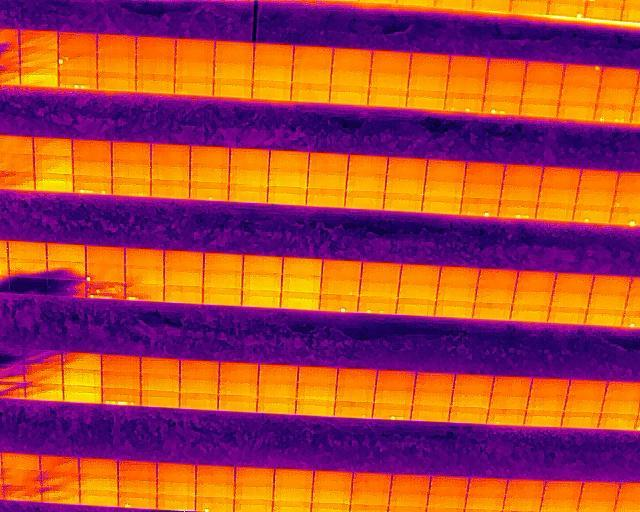Cell: (562, 66, 603, 86), (574, 206, 613, 227), (461, 198, 500, 217), (86, 265, 125, 284), (318, 294, 359, 312), (190, 182, 229, 200), (334, 401, 373, 418), (119, 493, 157, 510), (321, 278, 359, 295), (548, 0, 586, 16), (195, 497, 234, 512)
Cell-Multi: (595, 103, 636, 123), (58, 70, 97, 91), (125, 284, 165, 303), (482, 96, 522, 114), (444, 94, 484, 112), (500, 201, 538, 219), (85, 282, 125, 299), (359, 297, 398, 314), (58, 53, 97, 70), (73, 176, 111, 193), (102, 389, 141, 405)
No-Anomaly: (348, 154, 388, 176), (333, 49, 371, 72), (453, 373, 494, 394), (386, 157, 427, 178), (449, 56, 488, 78), (371, 53, 410, 75), (426, 160, 466, 181), (308, 153, 348, 174), (542, 481, 582, 502), (293, 49, 333, 70), (97, 34, 137, 55), (464, 162, 505, 182), (191, 145, 230, 166), (467, 478, 506, 499), (410, 55, 449, 76), (254, 44, 293, 65), (137, 37, 176, 58), (58, 32, 97, 53), (117, 460, 157, 480), (360, 262, 402, 281), (112, 142, 151, 162), (243, 254, 282, 274), (391, 476, 430, 496), (97, 72, 136, 92), (175, 39, 214, 59), (541, 170, 582, 189), (502, 167, 543, 186), (560, 85, 601, 104), (21, 67, 58, 88), (491, 376, 534, 394), (583, 481, 618, 503), (267, 186, 307, 205), (580, 171, 620, 190), (269, 151, 309, 170), (407, 91, 447, 110), (214, 78, 252, 98), (202, 288, 242, 307), (322, 260, 360, 280), (282, 258, 322, 277), (164, 251, 204, 270), (175, 76, 213, 96), (215, 42, 253, 62), (336, 369, 378, 387), (507, 480, 543, 501), (152, 145, 191, 164), (72, 141, 111, 160), (252, 81, 291, 100), (280, 292, 319, 311), (554, 273, 593, 292), (86, 245, 125, 264), (524, 64, 563, 83), (379, 370, 416, 390), (430, 477, 467, 497), (586, 0, 623, 20), (530, 377, 571, 395), (414, 373, 455, 391), (229, 149, 270, 167), (596, 85, 637, 103), (203, 253, 244, 271), (347, 189, 385, 208), (516, 272, 554, 291), (488, 61, 526, 80), (422, 196, 462, 214), (538, 188, 578, 206), (229, 168, 269, 186), (477, 270, 517, 288), (125, 249, 165, 267), (352, 473, 392, 491), (297, 367, 339, 384), (20, 48, 57, 67), (141, 373, 180, 391), (79, 489, 118, 507), (384, 193, 423, 211), (34, 138, 73, 156), (434, 300, 473, 318), (282, 275, 321, 293), (601, 69, 640, 87), (217, 364, 258, 381), (306, 189, 347, 206), (500, 184, 541, 201), (367, 90, 408, 107), (290, 85, 331, 102), (602, 396, 640, 414), (35, 174, 73, 192), (35, 155, 73, 173), (513, 303, 549, 322), (242, 290, 280, 308), (592, 277, 630, 295), (440, 269, 478, 287), (137, 74, 175, 92), (214, 60, 252, 78), (228, 185, 268, 202), (151, 180, 191, 197), (111, 178, 151, 195), (157, 464, 197, 481), (273, 485, 313, 502), (359, 281, 399, 298), (125, 267, 165, 284), (447, 78, 487, 95), (397, 299, 434, 317), (401, 264, 438, 282), (565, 395, 604, 412), (568, 378, 607, 395), (180, 362, 219, 379), (313, 471, 352, 488), (463, 181, 502, 198), (274, 469, 313, 486), (522, 100, 561, 117), (329, 87, 368, 104), (523, 83, 562, 100), (235, 483, 274, 500), (473, 302, 512, 319), (164, 286, 203, 303), (203, 271, 242, 288), (164, 270, 203, 287), (97, 55, 136, 72), (217, 395, 258, 411), (312, 488, 353, 504), (535, 204, 576, 220), (484, 80, 525, 96), (449, 407, 490, 423), (411, 405, 452, 421), (562, 410, 598, 428), (64, 368, 102, 385), (352, 489, 390, 506), (103, 355, 141, 372), (575, 190, 613, 207), (557, 103, 595, 120), (548, 307, 586, 324), (175, 59, 213, 76), (20, 31, 58, 48), (600, 413, 638, 430), (259, 365, 299, 381), (423, 180, 463, 196), (234, 467, 274, 483), (335, 386, 377, 401), (586, 309, 623, 326), (589, 293, 626, 310), (257, 397, 296, 413), (63, 385, 102, 401), (152, 164, 191, 180), (196, 465, 235, 481), (551, 292, 590, 308), (242, 275, 281, 291), (8, 243, 47, 259), (79, 474, 118, 490), (137, 58, 176, 74), (428, 496, 467, 512), (526, 395, 567, 410), (384, 178, 425, 193), (252, 66, 293, 81), (398, 282, 436, 298), (47, 245, 85, 261), (390, 496, 428, 512), (157, 495, 195, 511), (525, 409, 563, 425), (295, 400, 335, 415), (268, 171, 308, 186), (436, 286, 476, 301), (370, 75, 410, 90), (4, 470, 41, 486), (141, 390, 180, 405), (375, 388, 414, 403), (258, 382, 297, 397), (102, 373, 141, 388), (308, 173, 347, 188), (190, 167, 229, 182), (112, 163, 151, 178), (79, 459, 118, 474), (487, 409, 526, 424), (73, 160, 111, 175), (196, 483, 234, 498), (490, 396, 530, 410), (297, 385, 337, 399), (218, 381, 258, 395), (157, 482, 197, 496), (409, 76, 449, 90), (141, 359, 180, 373), (293, 70, 332, 84), (180, 393, 218, 407), (180, 379, 218, 393), (476, 288, 514, 302), (332, 72, 370, 86), (347, 177, 387, 190), (514, 291, 551, 305), (452, 394, 491, 407), (414, 392, 453, 405), (3, 455, 39, 469), (466, 499, 504, 512), (118, 480, 158, 492)
Shadowing: (9, 259, 47, 278), (40, 454, 79, 472), (47, 262, 85, 280), (9, 278, 47, 295), (40, 488, 80, 504), (24, 384, 63, 400), (24, 367, 63, 383), (63, 352, 102, 368), (47, 281, 86, 297), (40, 472, 80, 487), (3, 486, 40, 501), (25, 353, 63, 367)
Unclassified: (373, 403, 412, 421)
